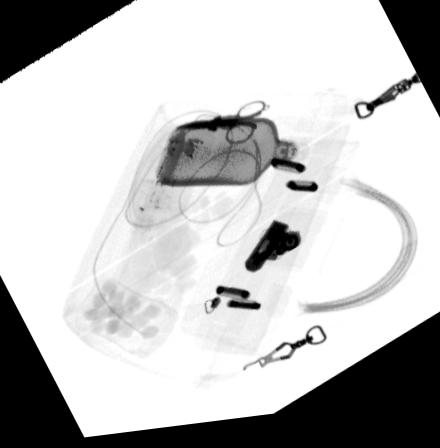Scissors: (176, 105, 266, 151)
